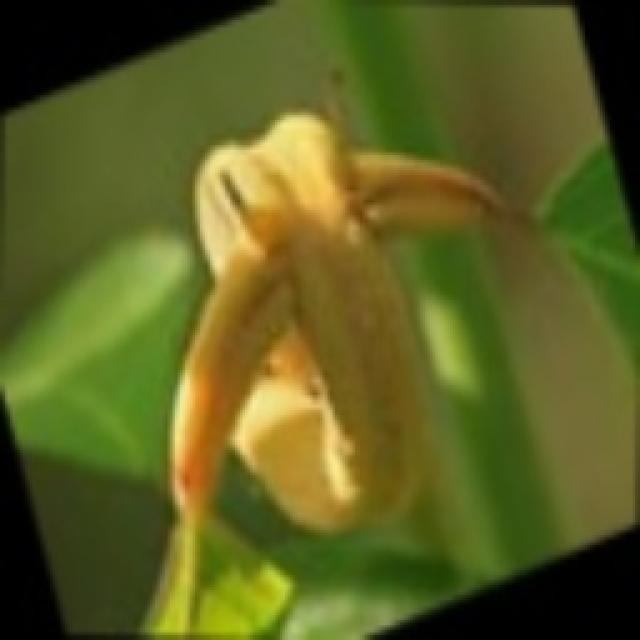Elderberry_rust: (171, 125, 434, 543)
